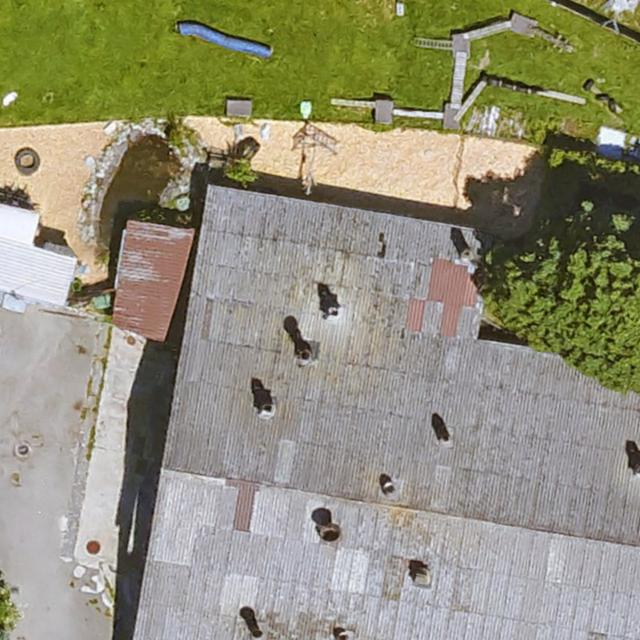tree: (480, 216, 640, 390)
